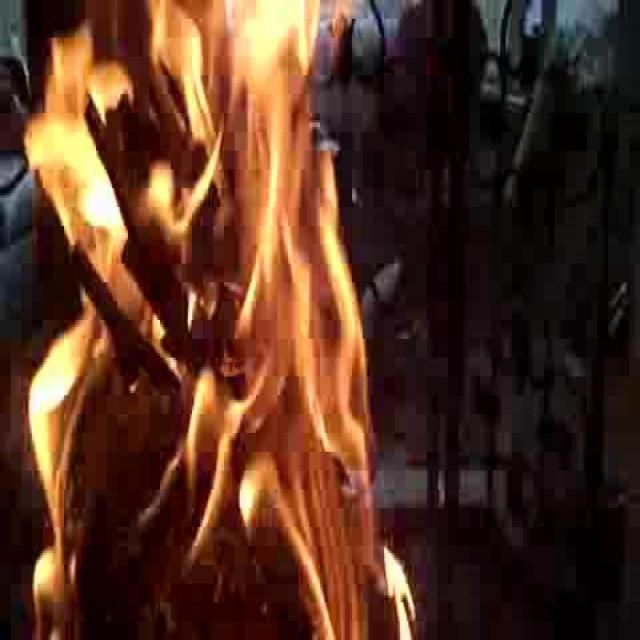fire: (46, 11, 382, 625)
